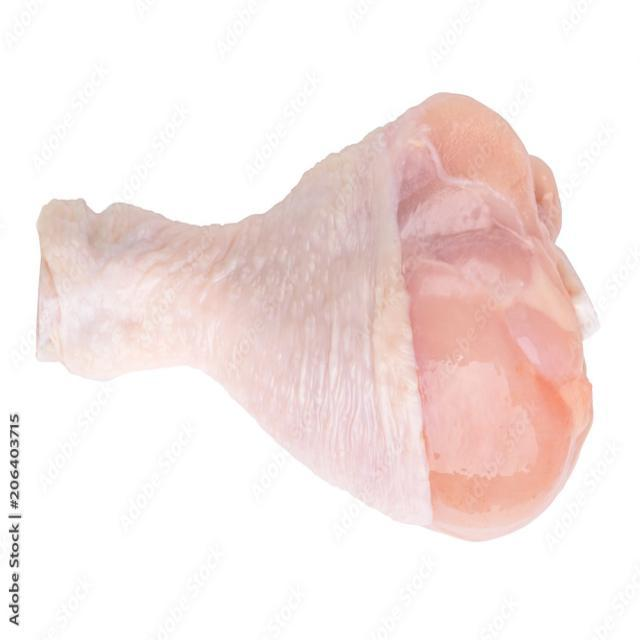leg: (34, 88, 595, 533)
